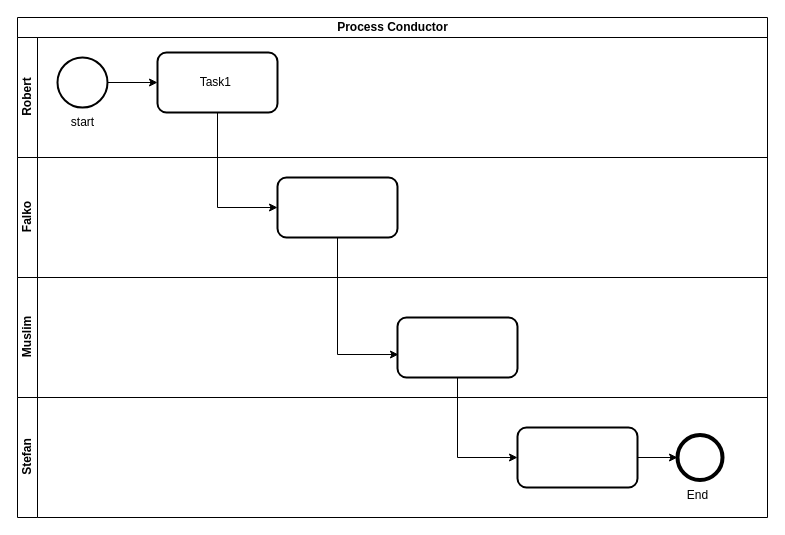
The diagram is 785 pixels wide and 535 high, and some of its shapes have lost their labels. The centre of each missing label's shape, as x and y in pixels:
"Task2" goes at (x=337, y=207).
"Task3" goes at (x=457, y=347).
"Task4" goes at (x=577, y=457).
